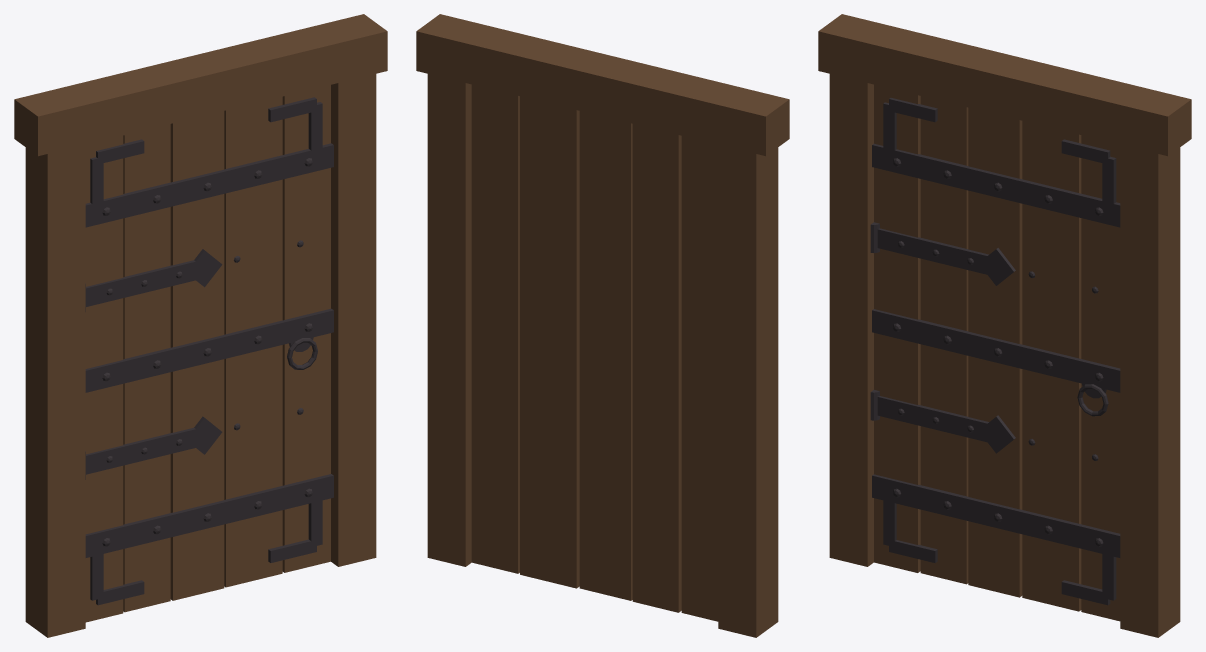
Rendered from SM_Door_IronBanded_03.glb.
3 views of the same model, side by side, from view 1: azimuth 30°, elevation 25°; view 2: azimuth 150°, elevation 25°; view 3: azimuth 330°, elevation 25° (orthographic).
Visible parts, largest first — view 1: SM_Door_IronBanded_03_Frame, SM_Door_IronBanded_03_Plank4, SM_Door_IronBanded_03_JambR, SM_Door_IronBanded_03_Lintel, SM_Door_IronBanded_03_Plank3, SM_Door_IronBanded_03_Plank5, SM_Door_IronBanded_03_Plank2, SM_Door_IronBanded_03_Plank1, SM_Door_IronBanded_03_Band2, SM_Door_IronBanded_03_Band1, SM_Door_IronBanded_03_Band3, SM_Door_IronBanded_03_Strap_0.72 (+11 smaller); view 2: SM_Door_IronBanded_03_Frame, SM_Door_IronBanded_03_Plank4, SM_Door_IronBanded_03_Plank3, SM_Door_IronBanded_03_Plank2, SM_Door_IronBanded_03_Plank5, SM_Door_IronBanded_03_JambR, SM_Door_IronBanded_03_Lintel, SM_Door_IronBanded_03_Plank1; view 3: SM_Door_IronBanded_03_JambR, SM_Door_IronBanded_03_Plank4, SM_Door_IronBanded_03_Frame, SM_Door_IronBanded_03_Lintel, SM_Door_IronBanded_03_Plank3, SM_Door_IronBanded_03_Plank2, SM_Door_IronBanded_03_Plank1, SM_Door_IronBanded_03_Plank5, SM_Door_IronBanded_03_Band2, SM_Door_IronBanded_03_Band1, SM_Door_IronBanded_03_Band3, SM_Door_IronBanded_03_Strap_0.72 (+11 smaller).
Boxes of the visible parts, x1=… form: SM_Door_IronBanded_03_Frame: x1=25, y1=88, x2=85, y2=637; SM_Door_IronBanded_03_Plank4: x1=224, y1=96, x2=282, y2=587; SM_Door_IronBanded_03_JambR: x1=316, y1=17, x2=376, y2=566; SM_Door_IronBanded_03_Lintel: x1=14, y1=14, x2=387, y2=156; SM_Door_IronBanded_03_Plank3: x1=170, y1=111, x2=224, y2=600; SM_Door_IronBanded_03_Plank5: x1=282, y1=85, x2=330, y2=572; SM_Door_IronBanded_03_Plank2: x1=123, y1=124, x2=170, y2=612; SM_Door_IronBanded_03_Plank1: x1=85, y1=135, x2=123, y2=622; SM_Door_IronBanded_03_Band2: x1=85, y1=308, x2=333, y2=392; SM_Door_IronBanded_03_Band1: x1=85, y1=474, x2=333, y2=557; SM_Door_IronBanded_03_Band3: x1=85, y1=143, x2=333, y2=227; SM_Door_IronBanded_03_Strap_0.72: x1=86, y1=427, x2=196, y2=474; SM_Door_IronBanded_03_Frame: x1=718, y1=88, x2=778, y2=637; SM_Door_IronBanded_03_Plank4: x1=520, y1=96, x2=579, y2=588; SM_Door_IronBanded_03_Plank3: x1=579, y1=111, x2=632, y2=600; SM_Door_IronBanded_03_Plank2: x1=632, y1=124, x2=681, y2=612; SM_Door_IronBanded_03_Plank5: x1=471, y1=84, x2=519, y2=573; SM_Door_IronBanded_03_JambR: x1=427, y1=17, x2=487, y2=566; SM_Door_IronBanded_03_Lintel: x1=416, y1=14, x2=789, y2=156; SM_Door_IronBanded_03_Plank1: x1=681, y1=136, x2=718, y2=621; SM_Door_IronBanded_03_JambR: x1=1120, y1=88, x2=1180, y2=637; SM_Door_IronBanded_03_Plank4: x1=1022, y1=121, x2=1081, y2=611; SM_Door_IronBanded_03_Frame: x1=829, y1=17, x2=889, y2=566; SM_Door_IronBanded_03_Lintel: x1=818, y1=14, x2=1191, y2=156; SM_Door_IronBanded_03_Plank3: x1=968, y1=107, x2=1022, y2=597; SM_Door_IronBanded_03_Plank2: x1=920, y1=96, x2=968, y2=584; SM_Door_IronBanded_03_Plank1: x1=874, y1=84, x2=920, y2=572; SM_Door_IronBanded_03_Plank5: x1=1081, y1=135, x2=1120, y2=621; SM_Door_IronBanded_03_Band2: x1=872, y1=309, x2=1120, y2=392; SM_Door_IronBanded_03_Band1: x1=872, y1=474, x2=1120, y2=557; SM_Door_IronBanded_03_Band3: x1=872, y1=143, x2=1120, y2=227; SM_Door_IronBanded_03_Strap_0.72: x1=877, y1=396, x2=988, y2=442.
Size of the model in its own units: 1.66 by 2.38 by 0.1944.
